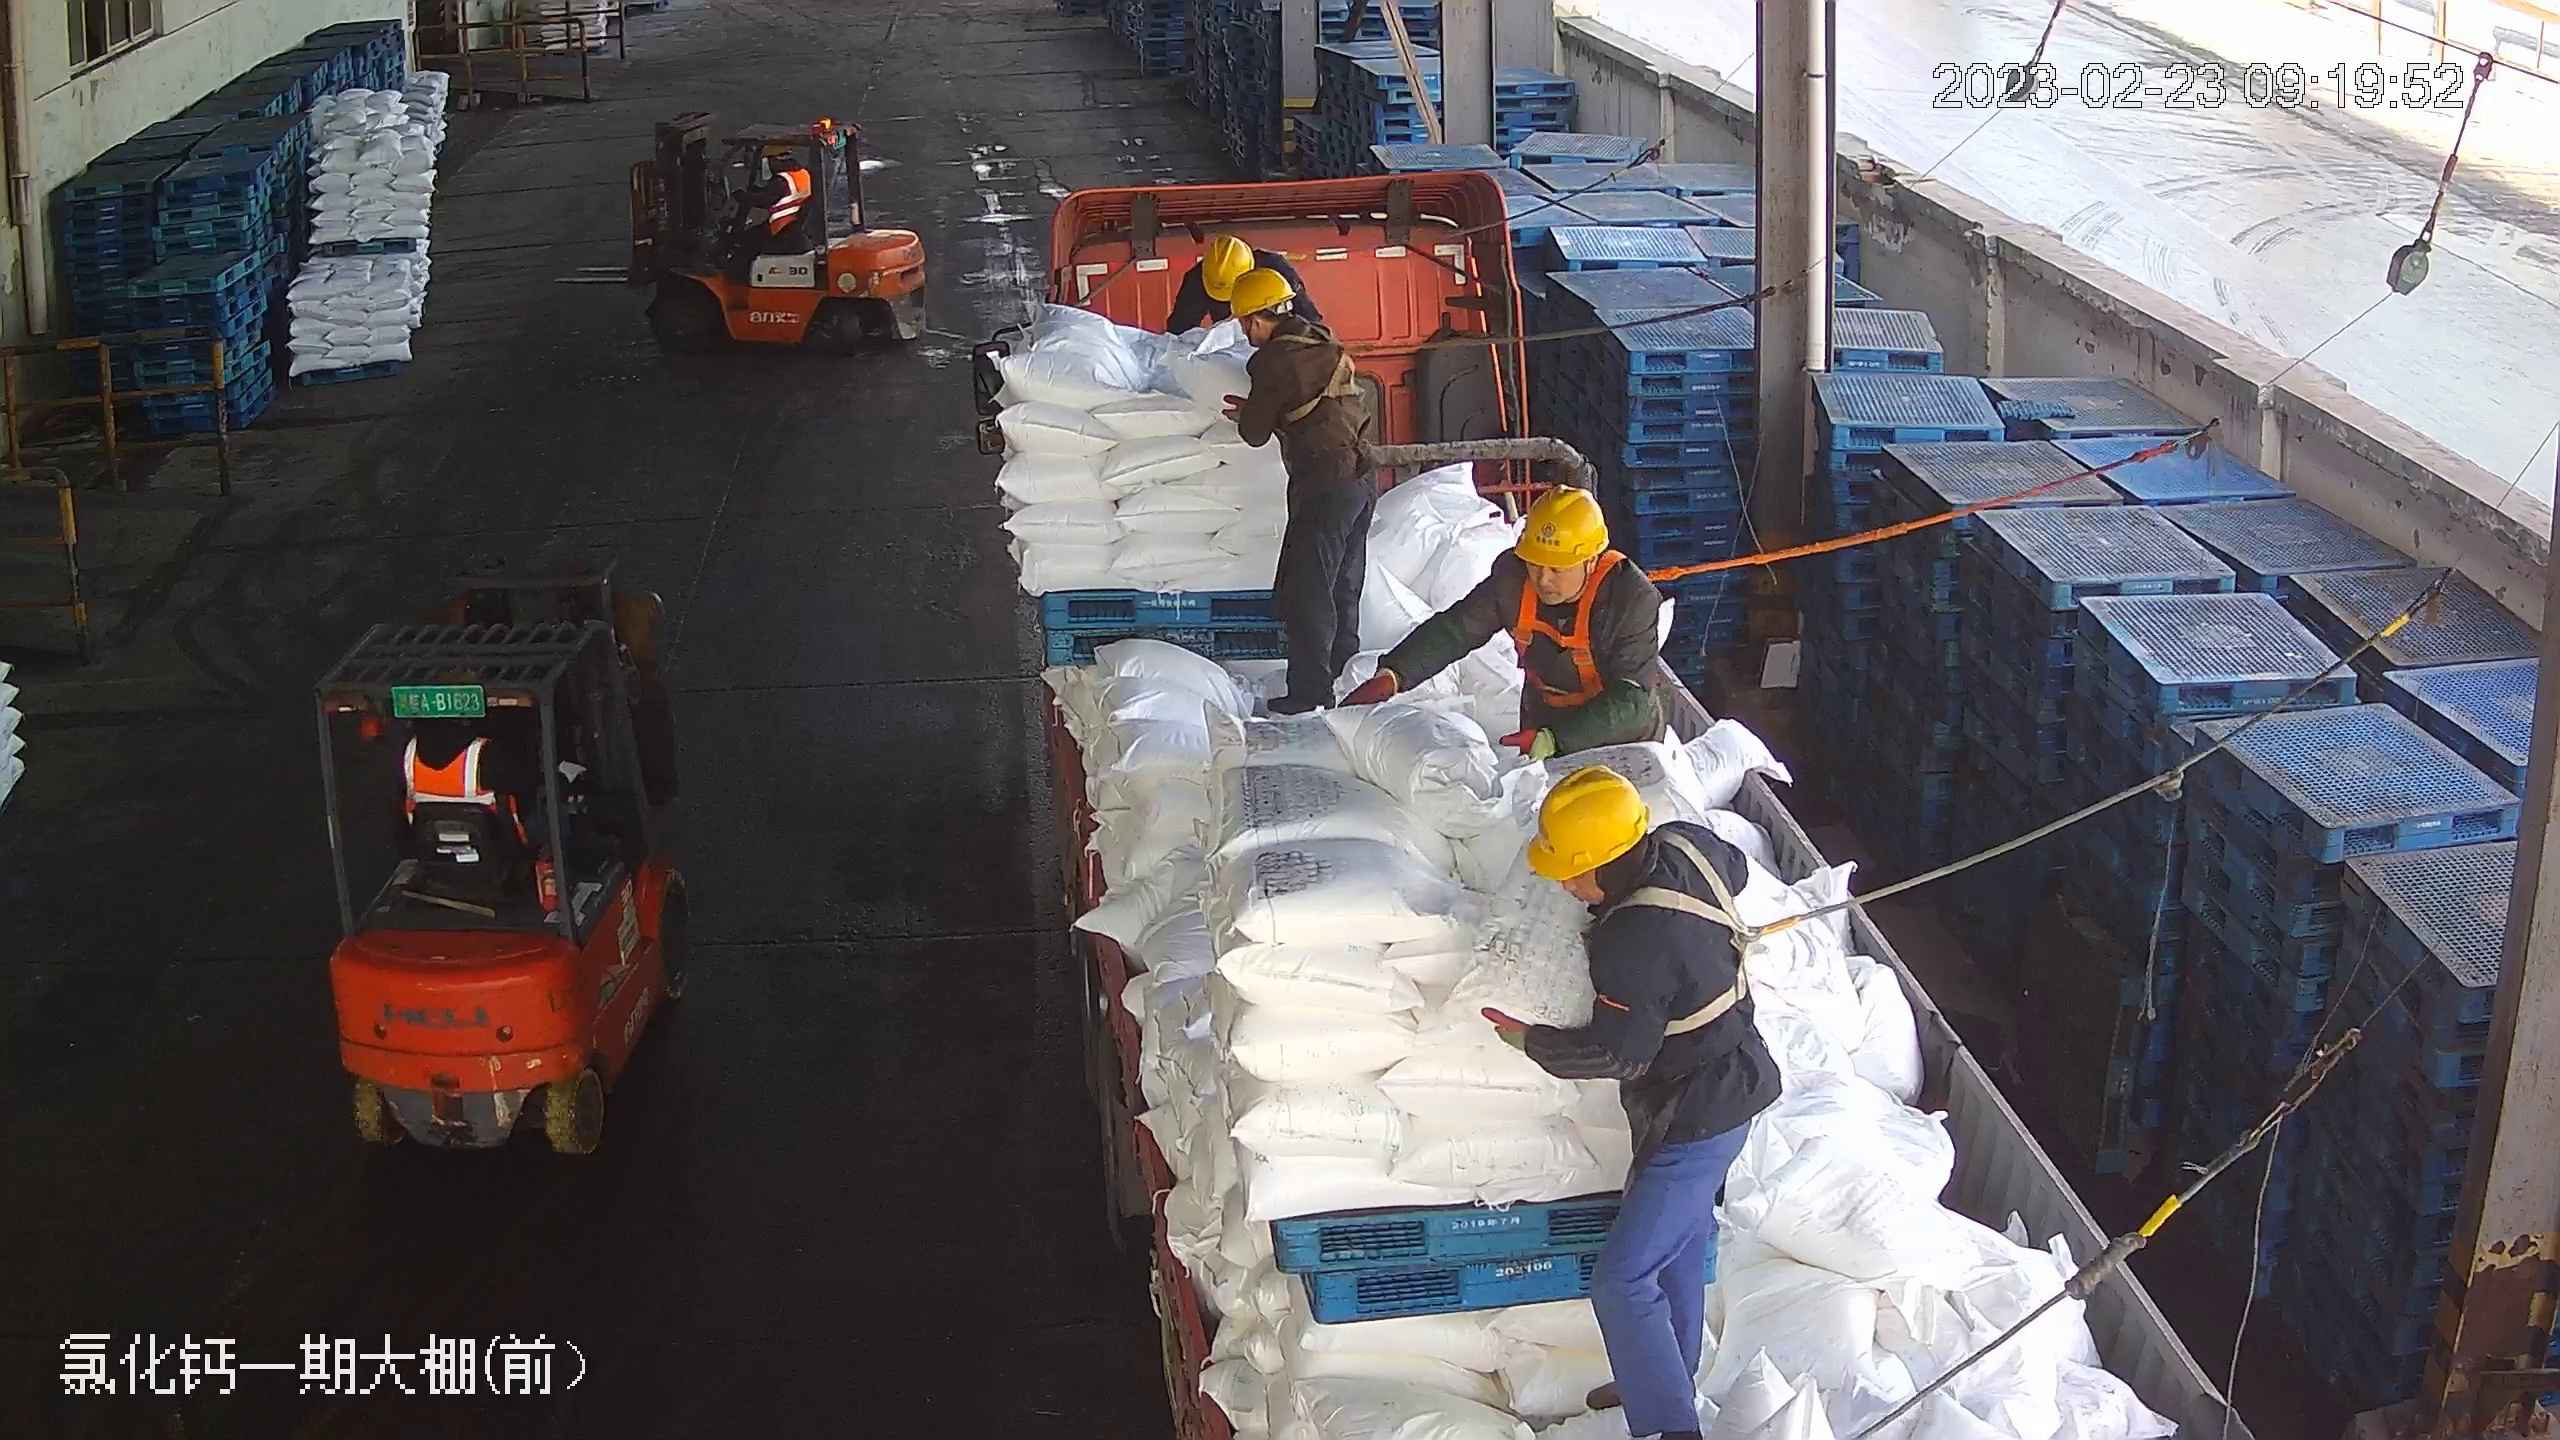belt: (1605, 831, 1804, 1036), (1503, 549, 1668, 704), (1269, 324, 1385, 422), (1265, 244, 1318, 272)
head: (1528, 764, 1744, 974), (1489, 484, 1662, 649), (1227, 268, 1343, 389), (761, 144, 808, 196)
helmet: (1528, 767, 1651, 877), (1513, 483, 1607, 567), (1223, 264, 1295, 317), (1198, 235, 1248, 290)
people: (1481, 765, 1784, 1439), (1347, 487, 1662, 780), (1215, 269, 1382, 713), (731, 146, 809, 254)
truck: (975, 153, 2261, 1440)
